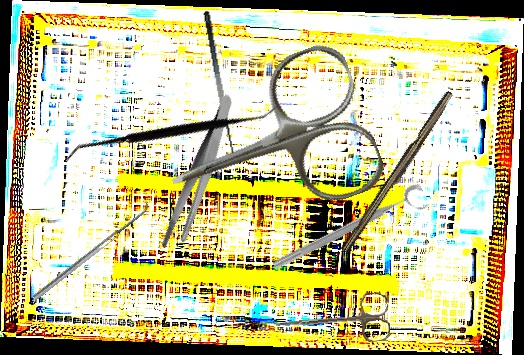Dressing Forceps: (130, 92, 270, 257)
Fixation Ring: (269, 181, 432, 284)
Iris Scissors: (145, 37, 391, 253), (273, 291, 392, 352)
Scalpel Handle: (340, 88, 457, 257)
Spatula Surgical: (63, 26, 282, 241), (28, 199, 154, 301), (201, 8, 246, 160)
